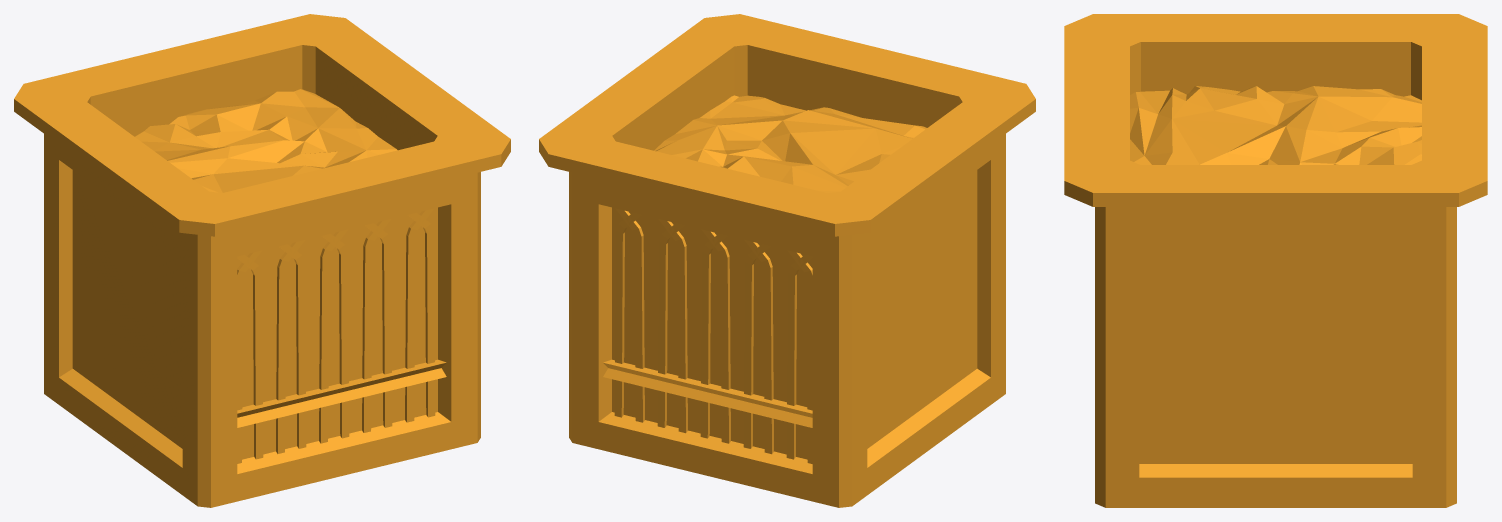
Rendered from SM_City_Planter_Street_C_Empty.fbx.
3 views of the same model, side by side, from view 1: azimuth 30°, elevation 25°; view 2: azimuth 150°, elevation 25°; view 3: azimuth 270°, elevation 25° (orthographic). The views are drawn at different scales.
Visible parts, largest first — view 1: SM_City_Planter_Street_C_Empty; view 2: SM_City_Planter_Street_C_Empty; view 3: SM_City_Planter_Street_C_Empty.
Boxes of the visible parts, x1=… form: SM_City_Planter_Street_C_Empty: x1=14, y1=14, x2=510, y2=507; SM_City_Planter_Street_C_Empty: x1=539, y1=14, x2=1035, y2=507; SM_City_Planter_Street_C_Empty: x1=1064, y1=14, x2=1487, y2=507.
Size of the model in its own units: 1.17 by 1 by 1.17.
